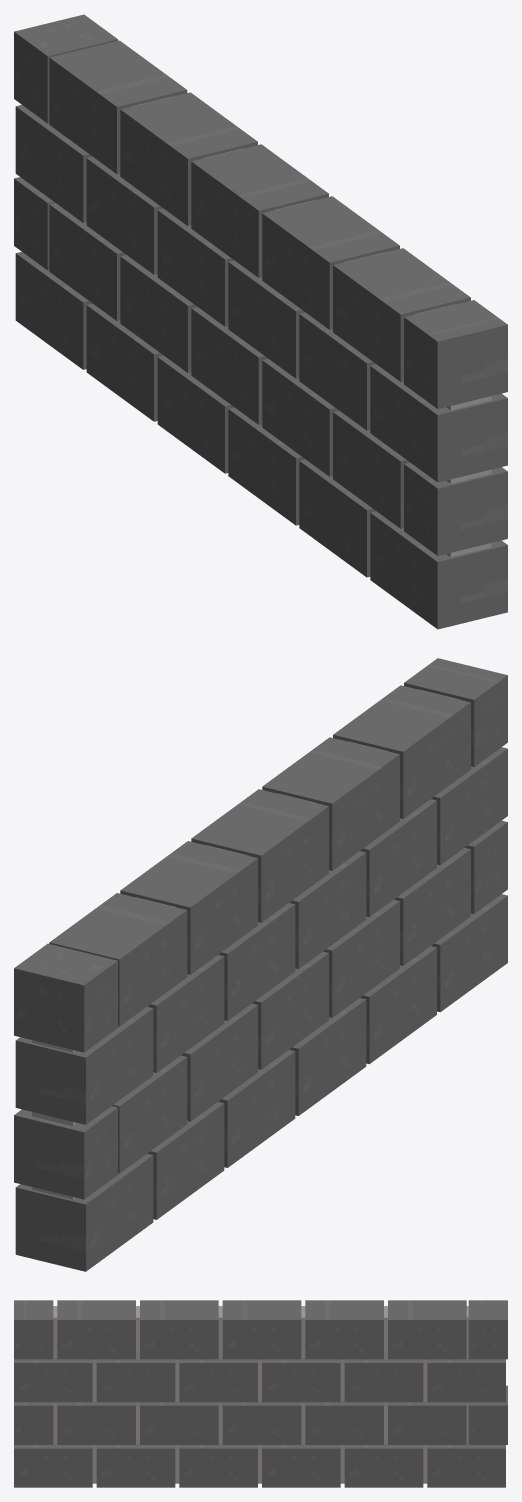
The model's file is stoneLow.gltf.
The picture shows the model from 3 angles, top to bottom: view 1: azimuth 30°, elevation 25°; view 2: azimuth 150°, elevation 25°; view 3: azimuth 270°, elevation 25°; orthographic projection. The views are drawn at different scales.
Visible parts, largest first — view 1: d969f419-1da8-2d59-4c13-7b0baa0d11e7, 56214a05-6d24-e01a-dc8f-82b54086e2e1, 13a60c67-087c-6ded-8c8b-94abe4ad8ccb, 23d790cb-4938-bc73-8044-490429eaa434, cae2502d-4ed4-7a94-b1fa-5044ba097710, 54ba0bce-24c0-4f96-cc98-a8d490f2ad0d, 602156ae-d227-edd6-1acf-f587a206bdec, f037959b-6c08-7d71-f331-f2f5f7b50da1, dfef50e0-4cd6-12d0-0baa-c20648eab1c9, 8297dd33-28e2-08f8-0fb8-8dce77f6b948, 0d415c79-6edd-f51d-2b02-861f6ba4d7a3, 150ca06e-3829-e132-2f01-5ffb9ef66cbe (+15 smaller); view 2: d9eb7762-2012-ce56-8ed0-a238db57cee8, ef5f31d5-edcd-39b5-93b6-b72d7bb655fc, 23d790cb-4938-bc73-8044-490429eaa434, 54ba0bce-24c0-4f96-cc98-a8d490f2ad0d, 602156ae-d227-edd6-1acf-f587a206bdec, cae2502d-4ed4-7a94-b1fa-5044ba097710, 13a60c67-087c-6ded-8c8b-94abe4ad8ccb, 7f52b1c0-36b3-bb95-d875-82334a87e30d, 83dfcefb-34c9-2f07-0e95-30a3d569668a, c9a232b3-882f-f446-9f43-446f235869e9, fa1ec6d1-be9a-f3e5-0e02-f38d5316cd28, 150ca06e-3829-e132-2f01-5ffb9ef66cbe (+15 smaller); view 3: cae2502d-4ed4-7a94-b1fa-5044ba097710, 13a60c67-087c-6ded-8c8b-94abe4ad8ccb, 23d790cb-4938-bc73-8044-490429eaa434, 54ba0bce-24c0-4f96-cc98-a8d490f2ad0d, 602156ae-d227-edd6-1acf-f587a206bdec, e564257e-c5ff-6dab-8c20-85fd39a04b1c, 0135fa3c-9c68-55a1-7b05-5609667c72ca, fa1ec6d1-be9a-f3e5-0e02-f38d5316cd28, d969f419-1da8-2d59-4c13-7b0baa0d11e7, 0d415c79-6edd-f51d-2b02-861f6ba4d7a3, 150ca06e-3829-e132-2f01-5ffb9ef66cbe, d9eb7762-2012-ce56-8ed0-a238db57cee8 (+15 smaller).
Boxes of the visible parts, x1,y1,x2,y2 form: d969f419-1da8-2d59-4c13-7b0baa0d11e7: [370, 364, 507, 482]; 56214a05-6d24-e01a-dc8f-82b54086e2e1: [370, 511, 507, 629]; 13a60c67-087c-6ded-8c8b-94abe4ad8ccb: [49, 40, 187, 174]; 23d790cb-4938-bc73-8044-490429eaa434: [120, 92, 257, 225]; cae2502d-4ed4-7a94-b1fa-5044ba097710: [191, 144, 328, 277]; 54ba0bce-24c0-4f96-cc98-a8d490f2ad0d: [262, 196, 399, 329]; 602156ae-d227-edd6-1acf-f587a206bdec: [333, 248, 470, 381]; f037959b-6c08-7d71-f331-f2f5f7b50da1: [404, 300, 507, 408]; dfef50e0-4cd6-12d0-0baa-c20648eab1c9: [404, 462, 507, 555]; 8297dd33-28e2-08f8-0fb8-8dce77f6b948: [157, 355, 234, 473]; 0d415c79-6edd-f51d-2b02-861f6ba4d7a3: [228, 260, 305, 378]; 150ca06e-3829-e132-2f01-5ffb9ef66cbe: [157, 208, 234, 326]; d9eb7762-2012-ce56-8ed0-a238db57cee8: [15, 1006, 153, 1124]; ef5f31d5-edcd-39b5-93b6-b72d7bb655fc: [15, 1153, 153, 1271]; 23d790cb-4938-bc73-8044-490429eaa434: [120, 841, 257, 974]; 54ba0bce-24c0-4f96-cc98-a8d490f2ad0d: [262, 737, 399, 870]; 602156ae-d227-edd6-1acf-f587a206bdec: [333, 685, 470, 818]; cae2502d-4ed4-7a94-b1fa-5044ba097710: [191, 789, 328, 922]; 13a60c67-087c-6ded-8c8b-94abe4ad8ccb: [49, 893, 187, 1026]; 7f52b1c0-36b3-bb95-d875-82334a87e30d: [14, 943, 117, 1052]; 83dfcefb-34c9-2f07-0e95-30a3d569668a: [14, 1106, 117, 1199]; c9a232b3-882f-f446-9f43-446f235869e9: [147, 1101, 224, 1219]; fa1ec6d1-be9a-f3e5-0e02-f38d5316cd28: [147, 955, 224, 1072]; 150ca06e-3829-e132-2f01-5ffb9ef66cbe: [218, 903, 295, 1020]; cae2502d-4ed4-7a94-b1fa-5044ba097710: [222, 1300, 301, 1359]; 13a60c67-087c-6ded-8c8b-94abe4ad8ccb: [388, 1300, 466, 1359]; 23d790cb-4938-bc73-8044-490429eaa434: [305, 1300, 383, 1359]; 54ba0bce-24c0-4f96-cc98-a8d490f2ad0d: [140, 1300, 218, 1359]; 602156ae-d227-edd6-1acf-f587a206bdec: [57, 1300, 135, 1359]; e564257e-c5ff-6dab-8c20-85fd39a04b1c: [53, 1306, 468, 1483]; 0135fa3c-9c68-55a1-7b05-5609667c72ca: [96, 1358, 175, 1402]; fa1ec6d1-be9a-f3e5-0e02-f38d5316cd28: [344, 1358, 423, 1402]; d969f419-1da8-2d59-4c13-7b0baa0d11e7: [14, 1358, 92, 1402]; 0d415c79-6edd-f51d-2b02-861f6ba4d7a3: [179, 1358, 257, 1402]; 150ca06e-3829-e132-2f01-5ffb9ef66cbe: [262, 1358, 340, 1402]; d9eb7762-2012-ce56-8ed0-a238db57cee8: [427, 1358, 505, 1402].
Bounding box in the file's own units: 0.15 × 0.5875 × 1.57.
Materials: 2 (2 with a texture image).
